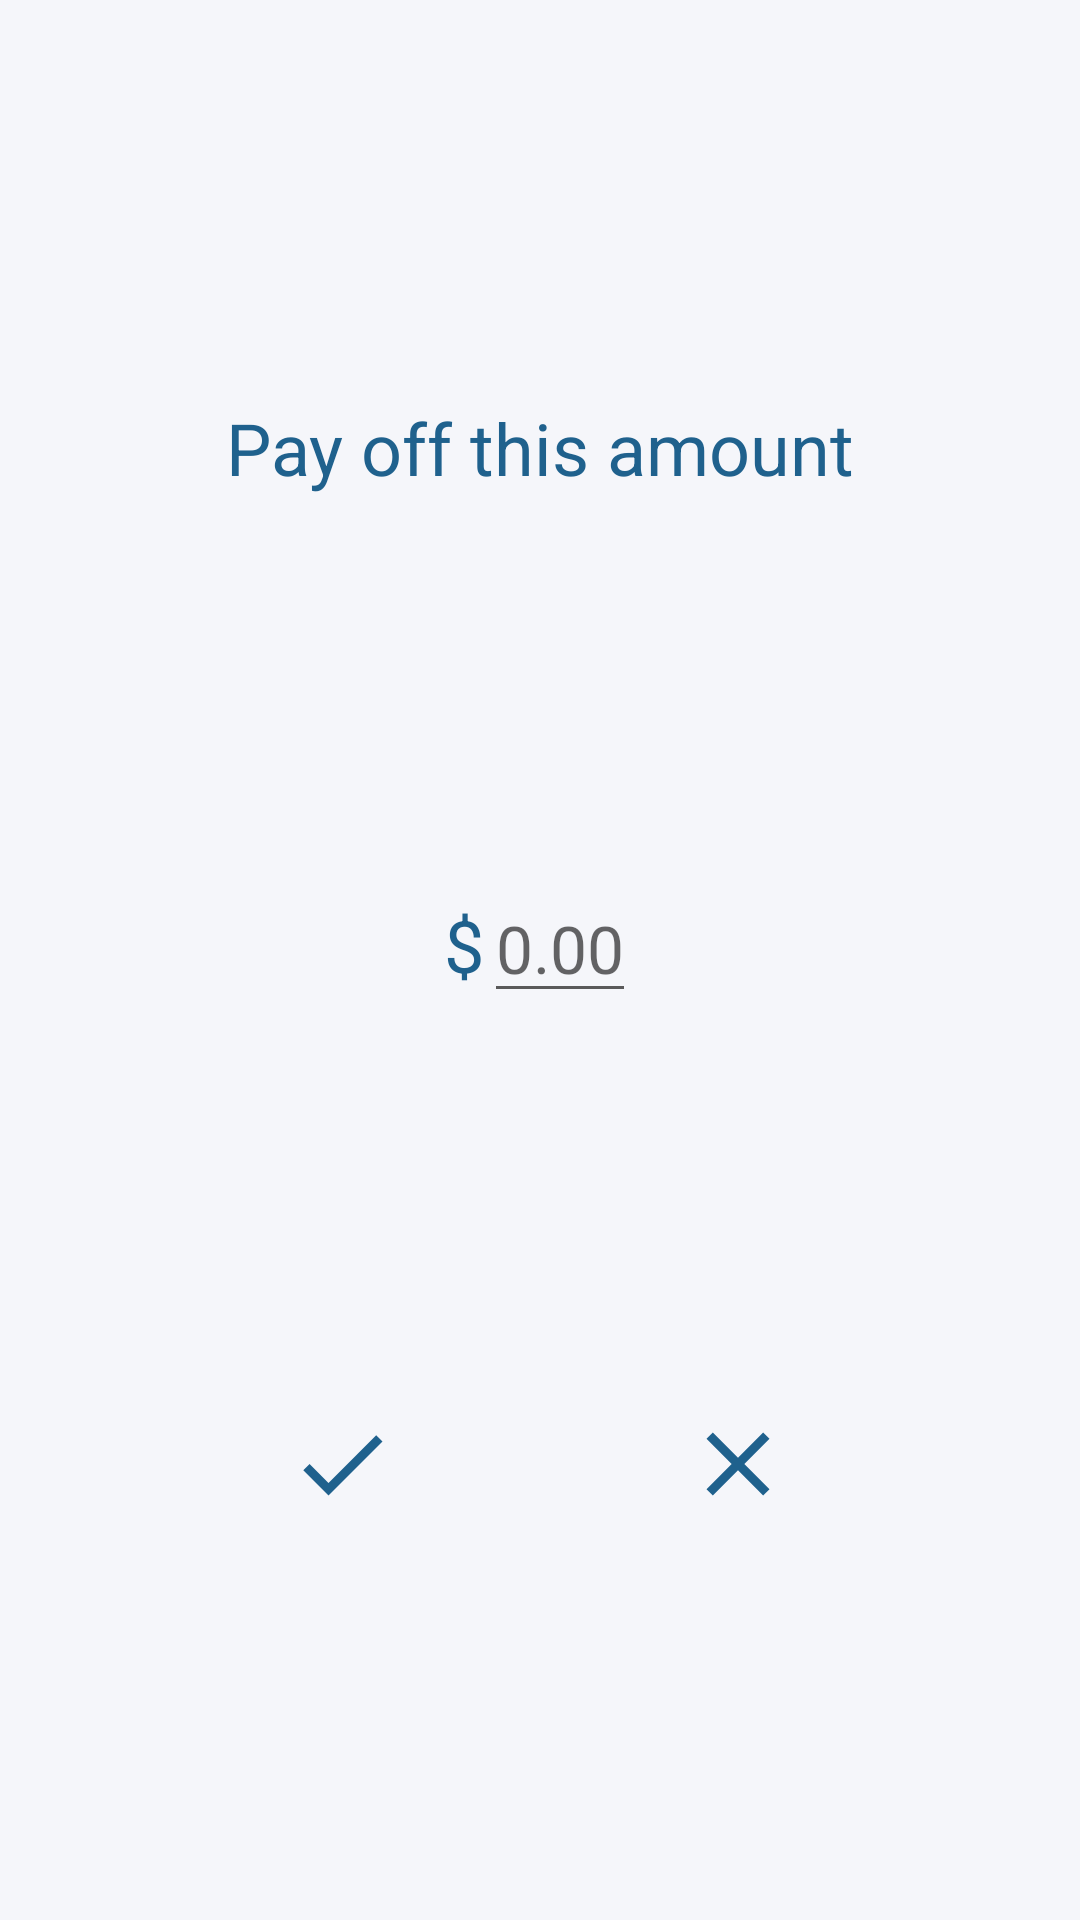

Where icons sit on this 1080px x 1920px app screen, as (x1, y1, x2, y2):
Cancel button: (706, 1432, 770, 1496)
